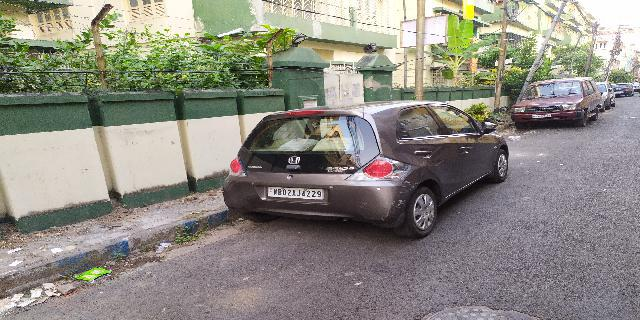Car: (220, 96, 512, 241), (510, 75, 606, 131)
